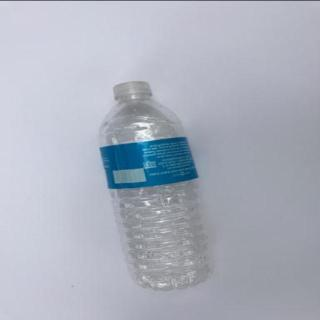Anorganik: (96, 75, 216, 292)
